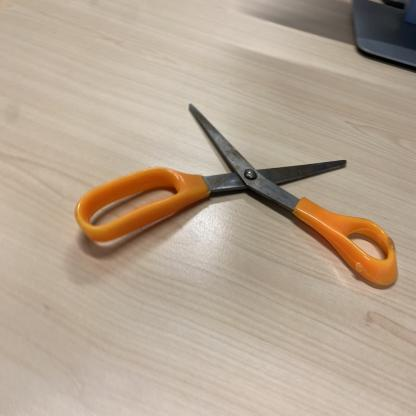scissors: (76, 100, 400, 308)
